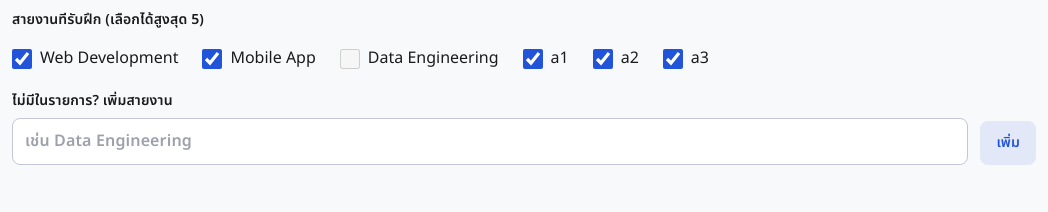
TagPicker › stops at five fields
This screenshot has width=1048, height=212.
Type "Game Dev" into the field labelled "ไม่มีในรายการ? เพิ่มสายงาน" at (490, 141), box [12, 118, 968, 165]
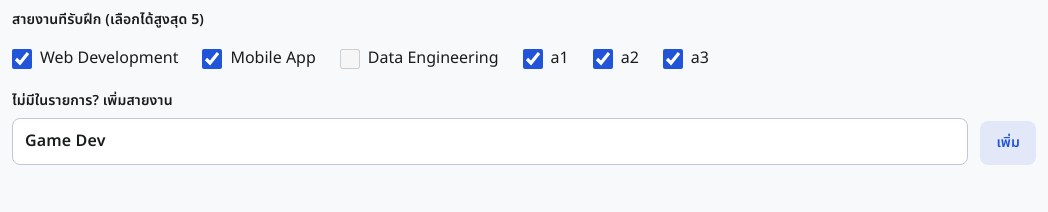
Click the button "เพิ่ม" at (1008, 143), box [980, 121, 1036, 165]
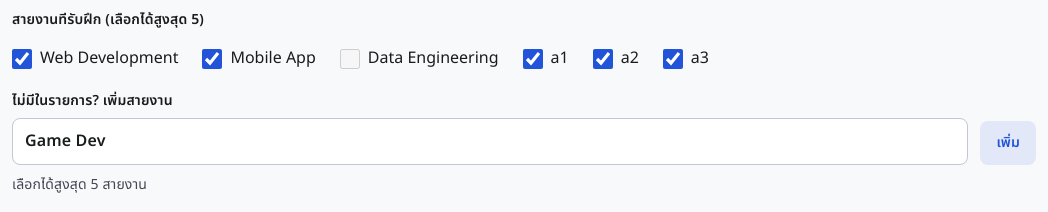
Expected: the checkbox labelled "Data Engineering" is disabled, [340, 49, 360, 69]
Expected: the text "เลือกได้สูงสุด 5 สายงาน" is shown, [12, 174, 147, 195]
